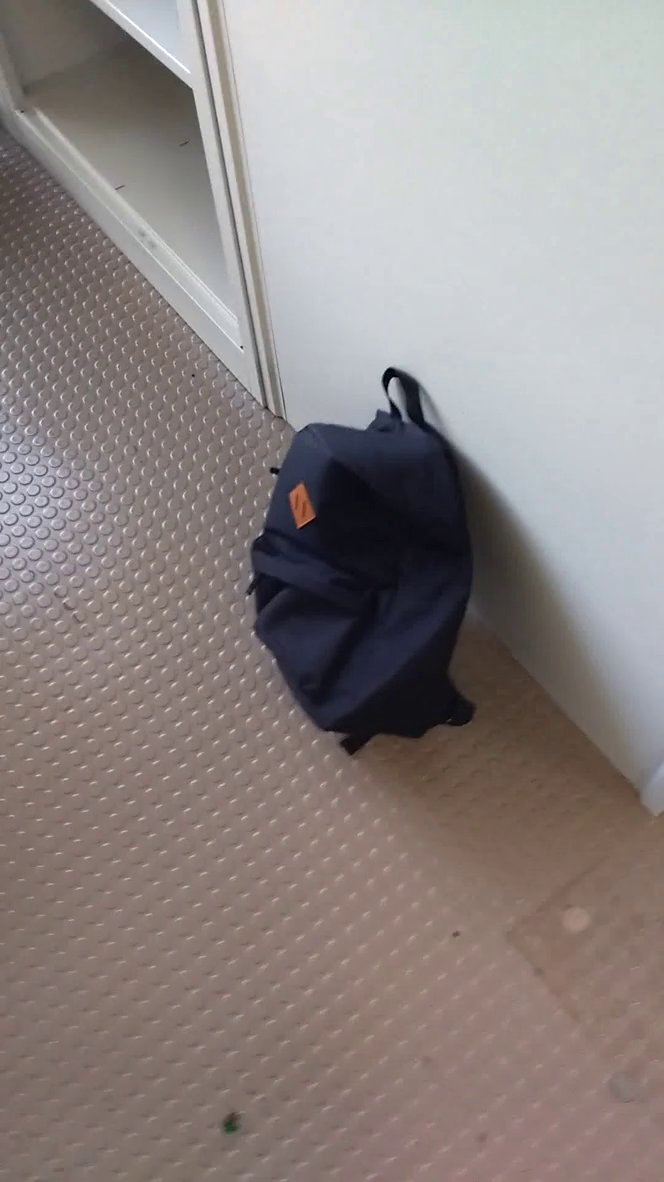bag: (237, 364, 520, 766)
